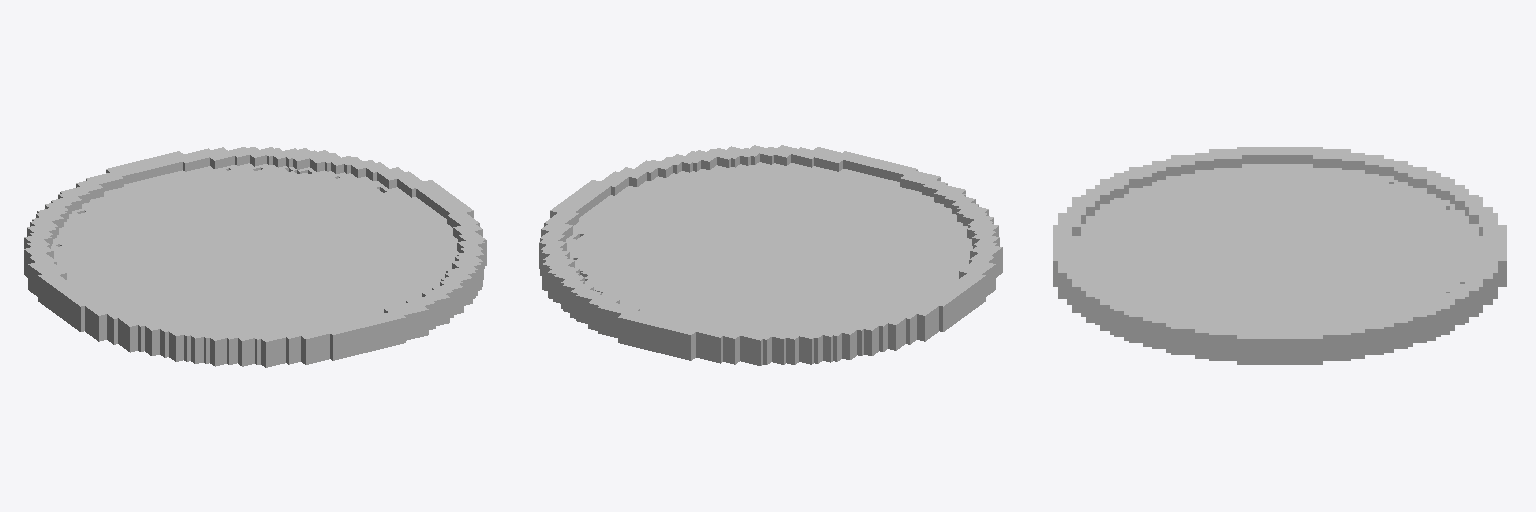
The model's file is PlatoLechuga.obj.
3 renders of one model, left to right at view 1: azimuth 30°, elevation 25°; view 2: azimuth 150°, elevation 25°; view 3: azimuth 270°, elevation 25°, orthographic.
Visible parts, largest first — view 1: object 1; view 2: object 1; view 3: object 1.
Part boxes in pixels (x1,y1,x2,y2): object 1: (24, 147, 486, 367); object 1: (539, 145, 1002, 365); object 1: (1053, 147, 1506, 364).
Bounding box in the file's own units: 9.6 × 0.6 × 9.6.